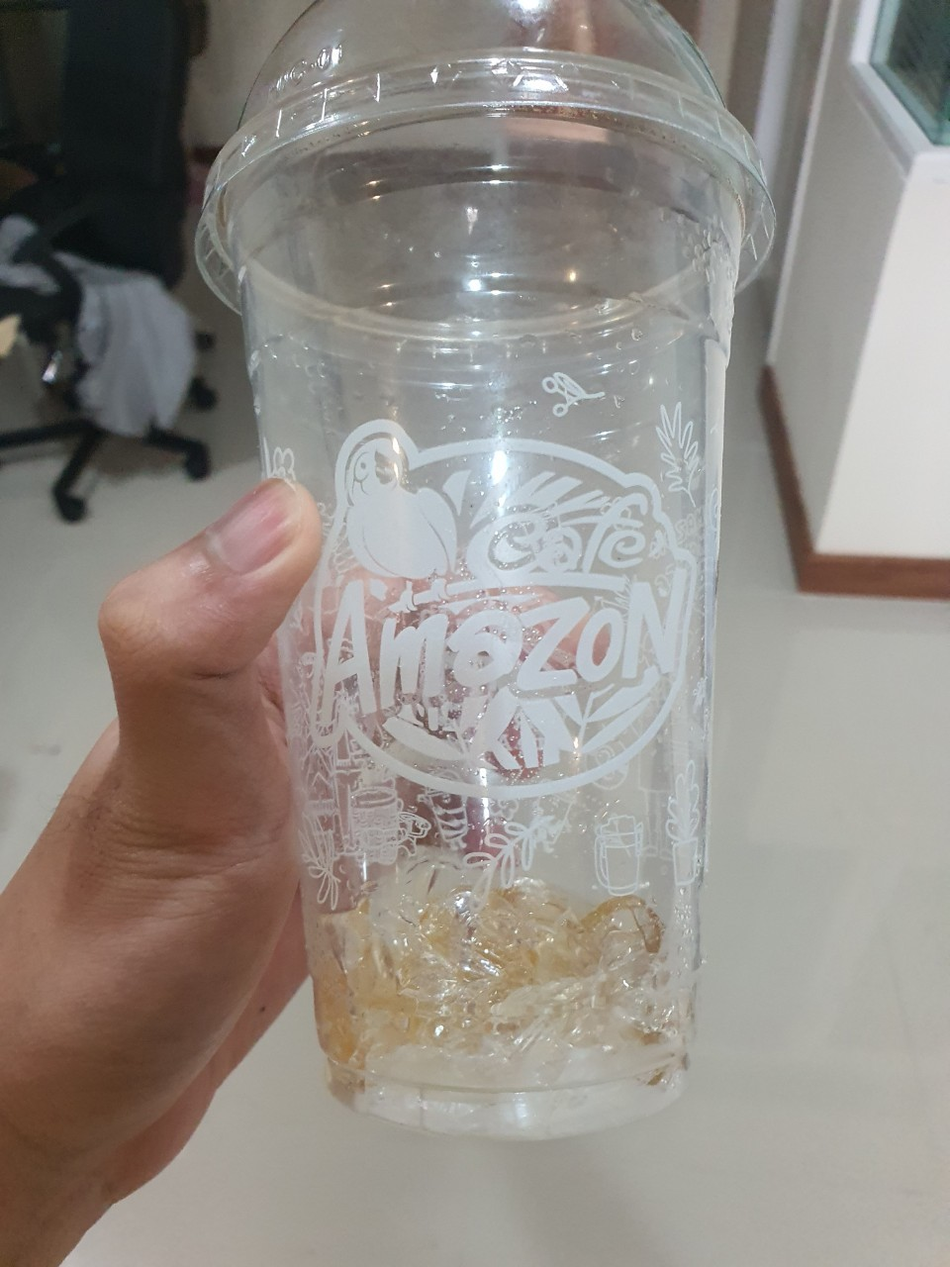plastic: (170, 0, 783, 1157)
